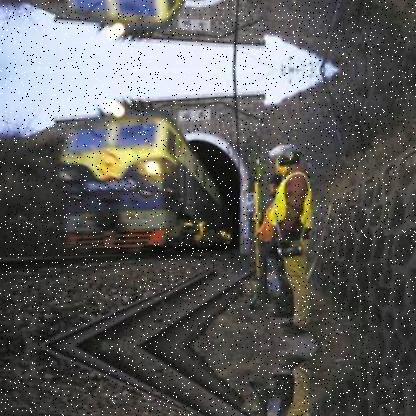Helmet: (272, 138, 300, 180)
